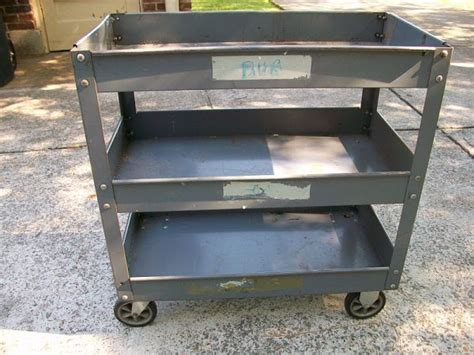Carts: (71, 10, 454, 325)
